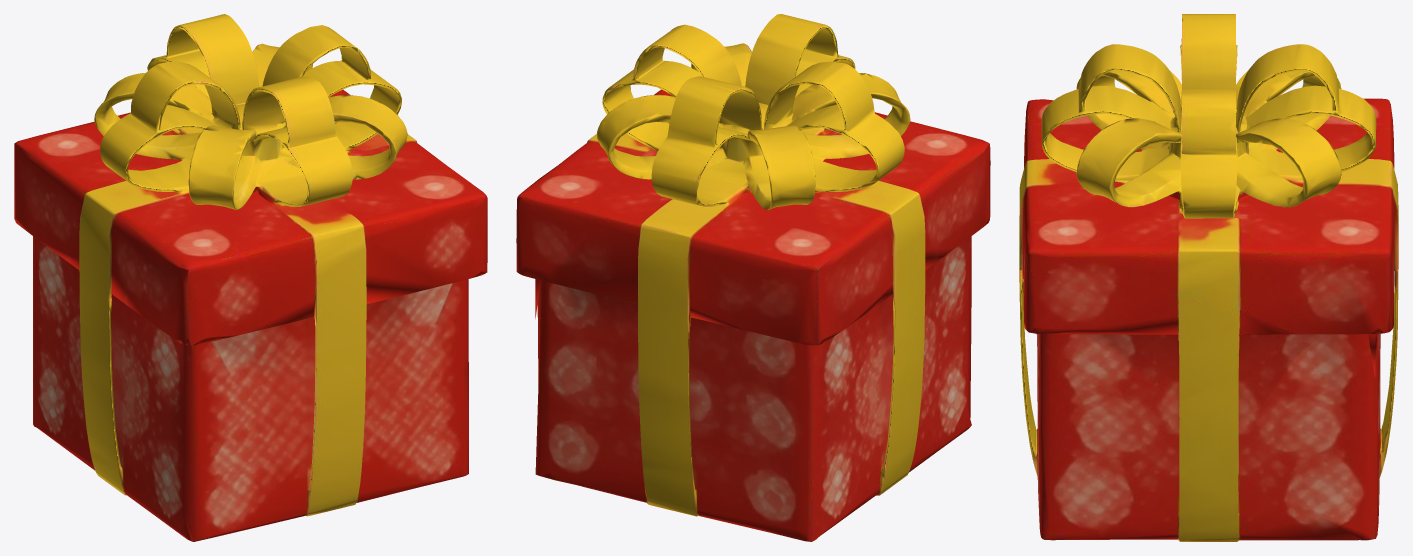
File: gift.glb
3 views of the same model, side by side, from view 1: azimuth 30°, elevation 25°; view 2: azimuth 150°, elevation 25°; view 3: azimuth 270°, elevation 25° (orthographic). The views are drawn at different scales.
Bounding box in the file's own units: 1.55 × 1.88 × 1.55.
1 material, 1 textured.
